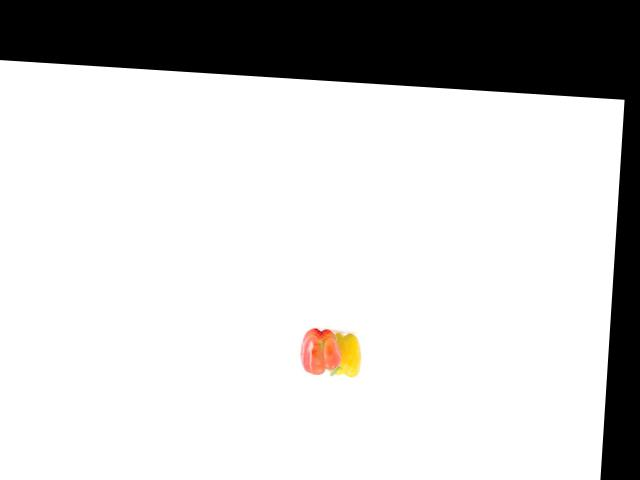bell_pepper: (324, 329, 363, 376)
